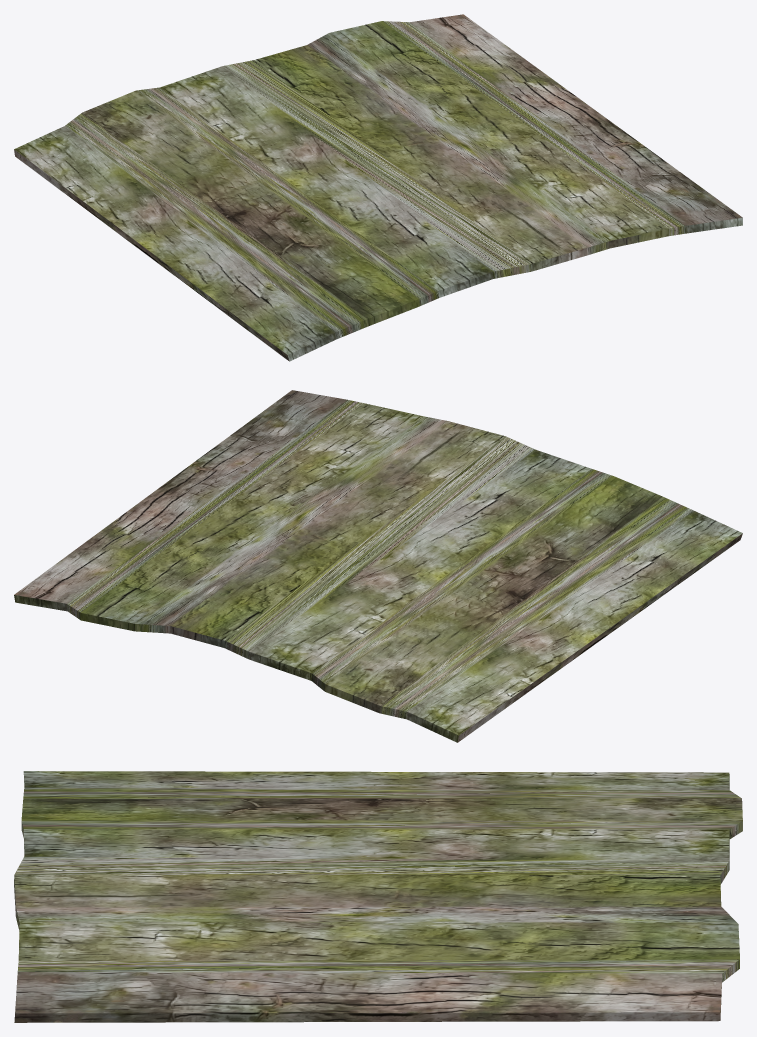
Rendered from ramp-003.fbx.
The picture shows the model from 3 angles, top to bottom: view 1: azimuth 30°, elevation 25°; view 2: azimuth 150°, elevation 25°; view 3: azimuth 270°, elevation 25°; orthographic projection. The views are drawn at different scales.
Parts seen in each view (by area): view 1: Ramp_003; view 2: Ramp_003; view 3: Ramp_003.
Boxes of the visible parts, x1,y1,x2,y2 form: Ramp_003: (14,14,742,361); Ramp_003: (14,390,742,742); Ramp_003: (14,771,742,1022).
Size of the model in its own units: 187 by 17.56 by 206.
